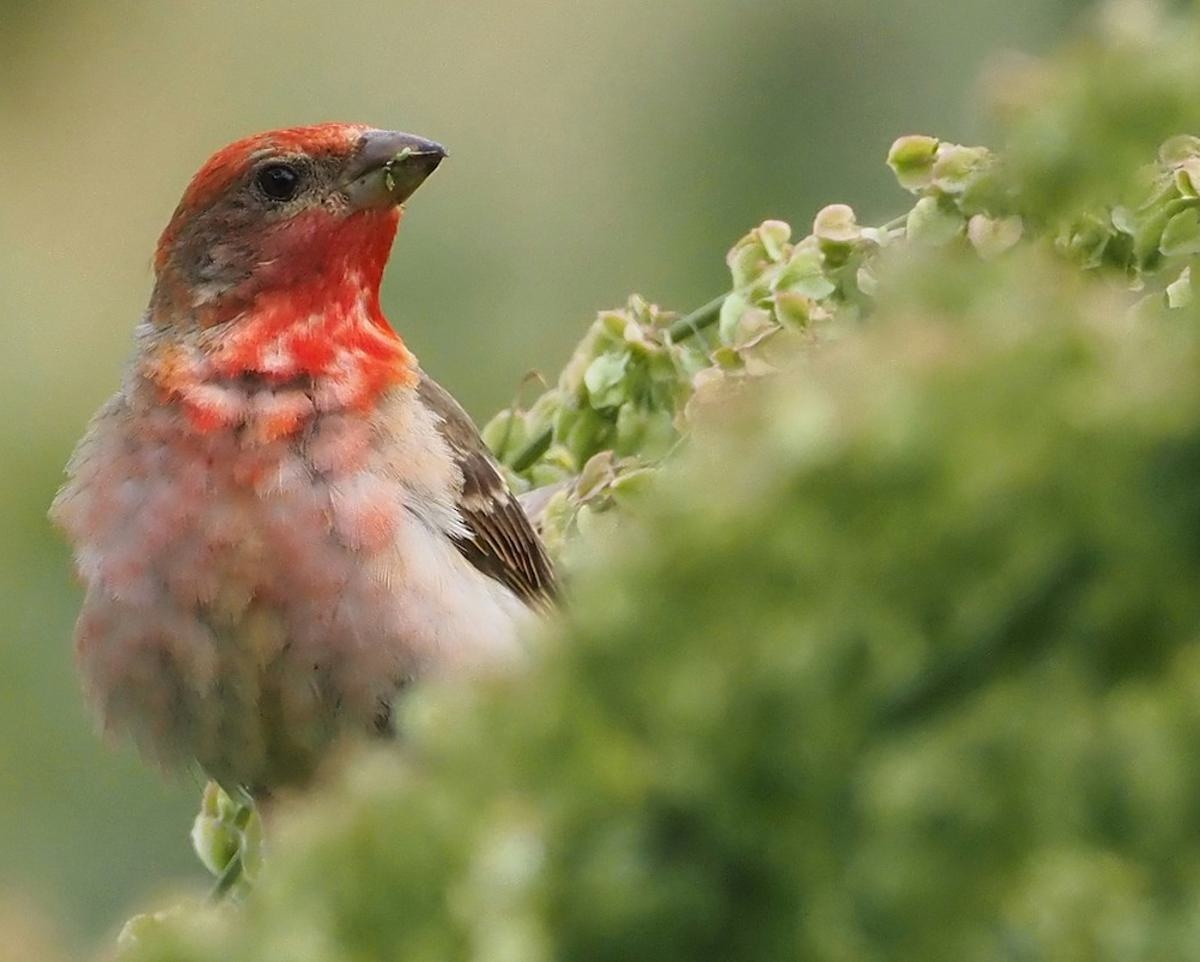rosefinch: (66, 104, 619, 821)
